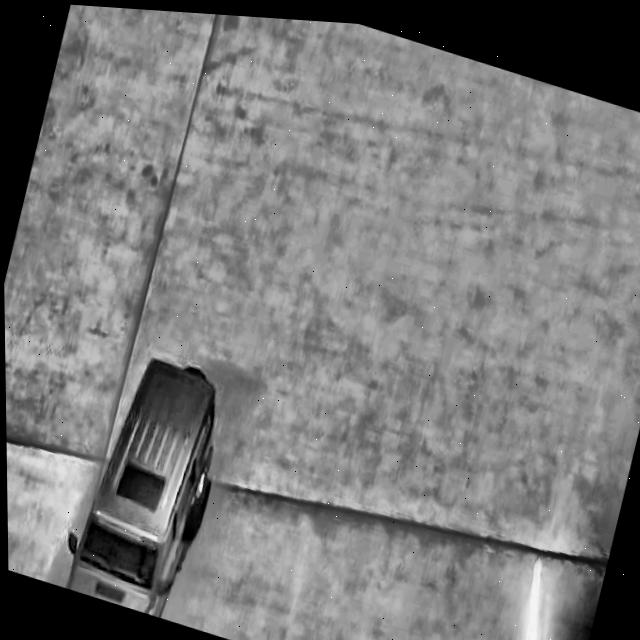light_vehicle: (47, 324, 238, 623)
